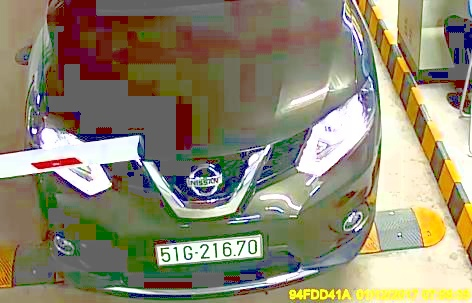plate: (152, 237, 267, 263)
